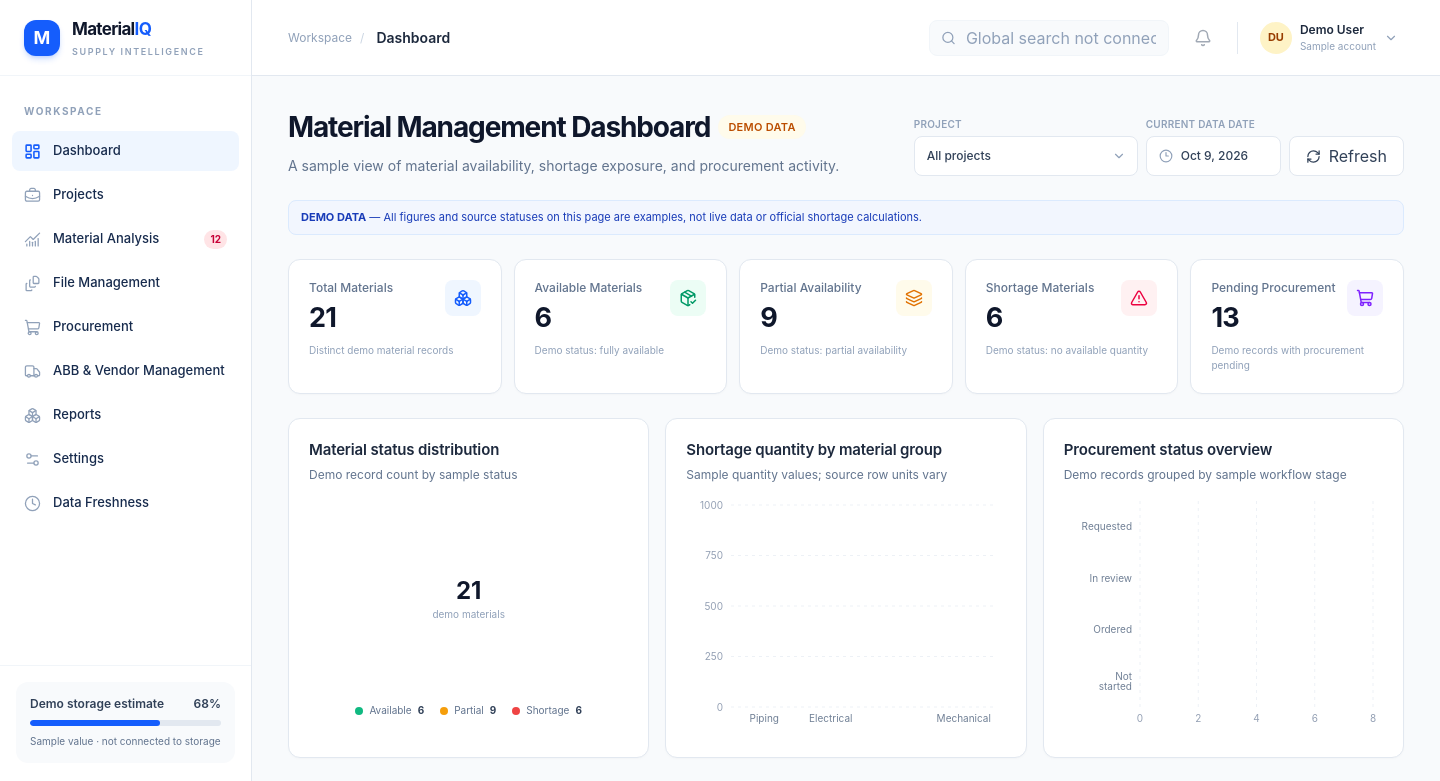
Test: MaterialIQ application › changes the demo summary when the project selector changes
Select "North Plant Expansion" in the dropdown named "Project selector": (1026, 156) x1=914 y1=136 x2=1138 y2=176
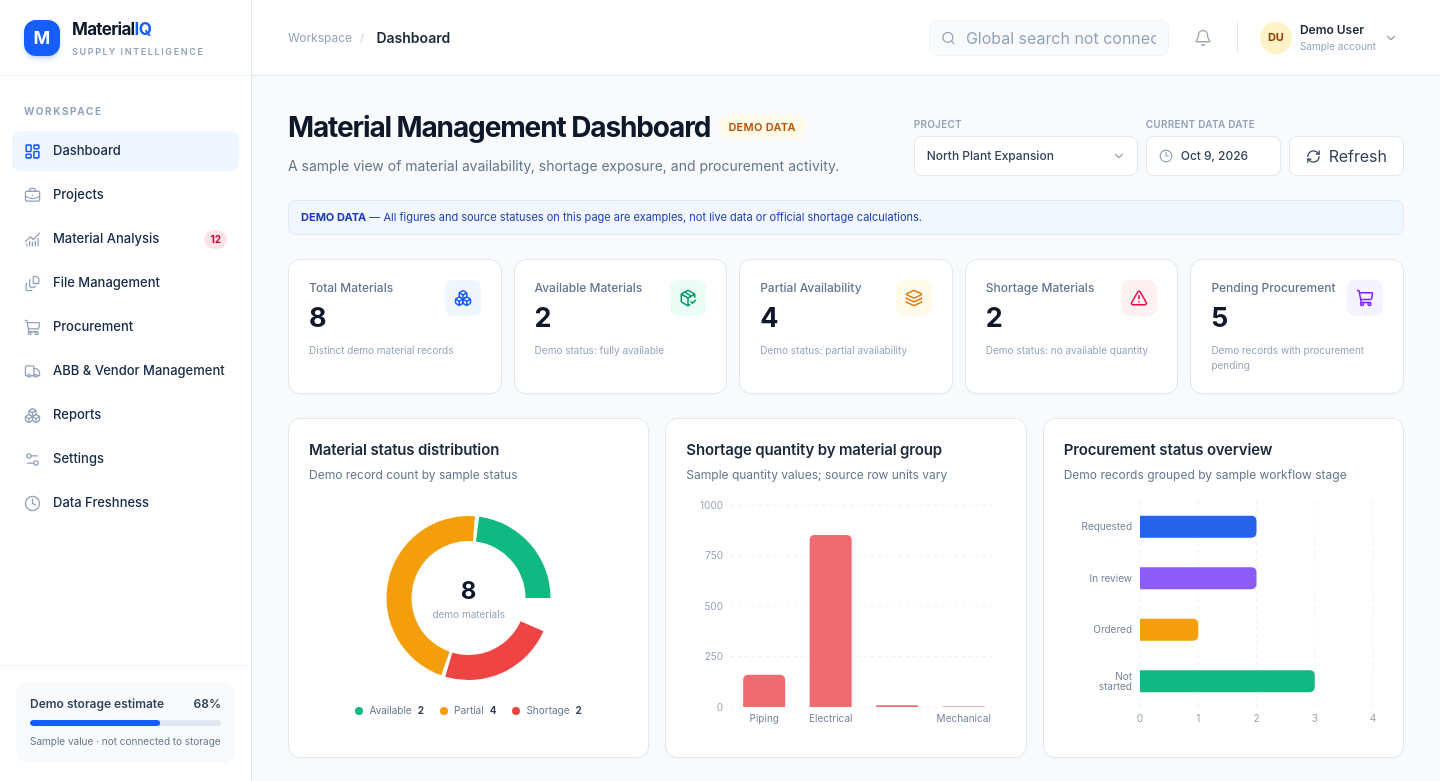
Check: the text "8" is shown, box x1=309 y1=300 x2=326 y2=334
